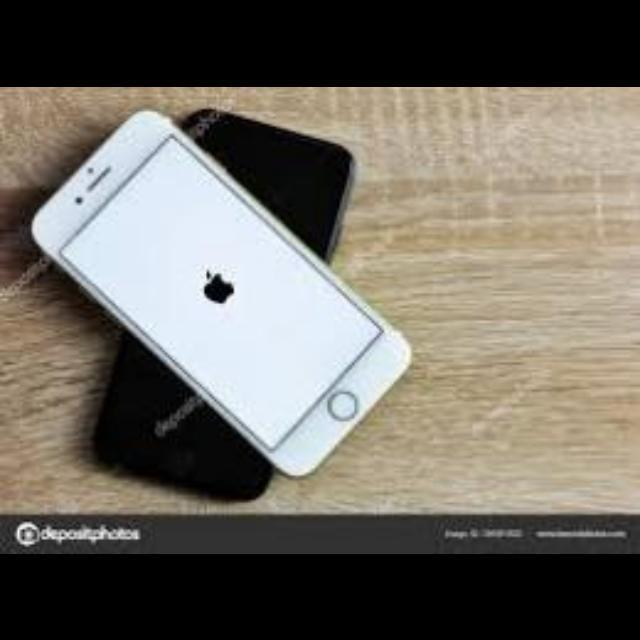PhoneUse: (32, 108, 412, 472)
